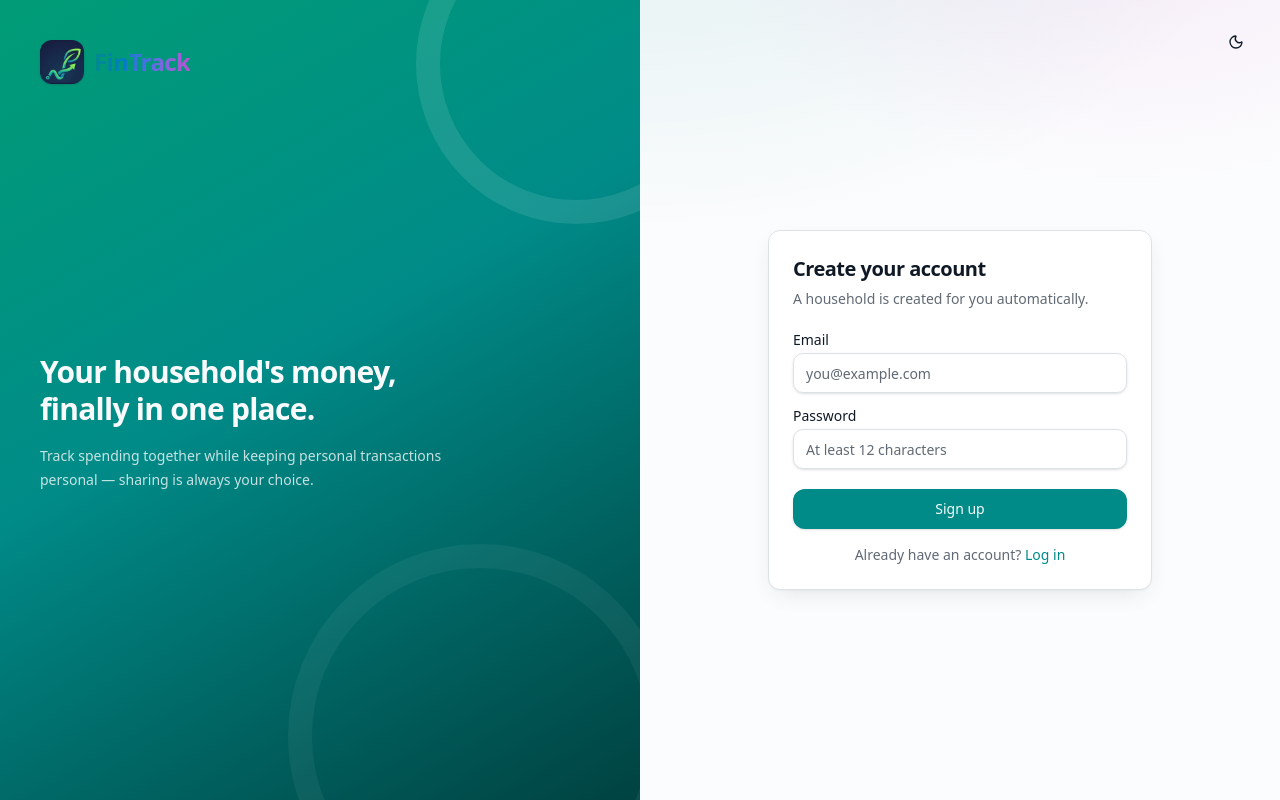
SignupPage › renders server-side field errors from the 400 problem body
The width and height of the screenshot is (1280, 800).
Type "jane@example.com" into the field labelled "Email".
click(960, 373); type("jane@example.com")  # box [793, 353, 1127, 393]
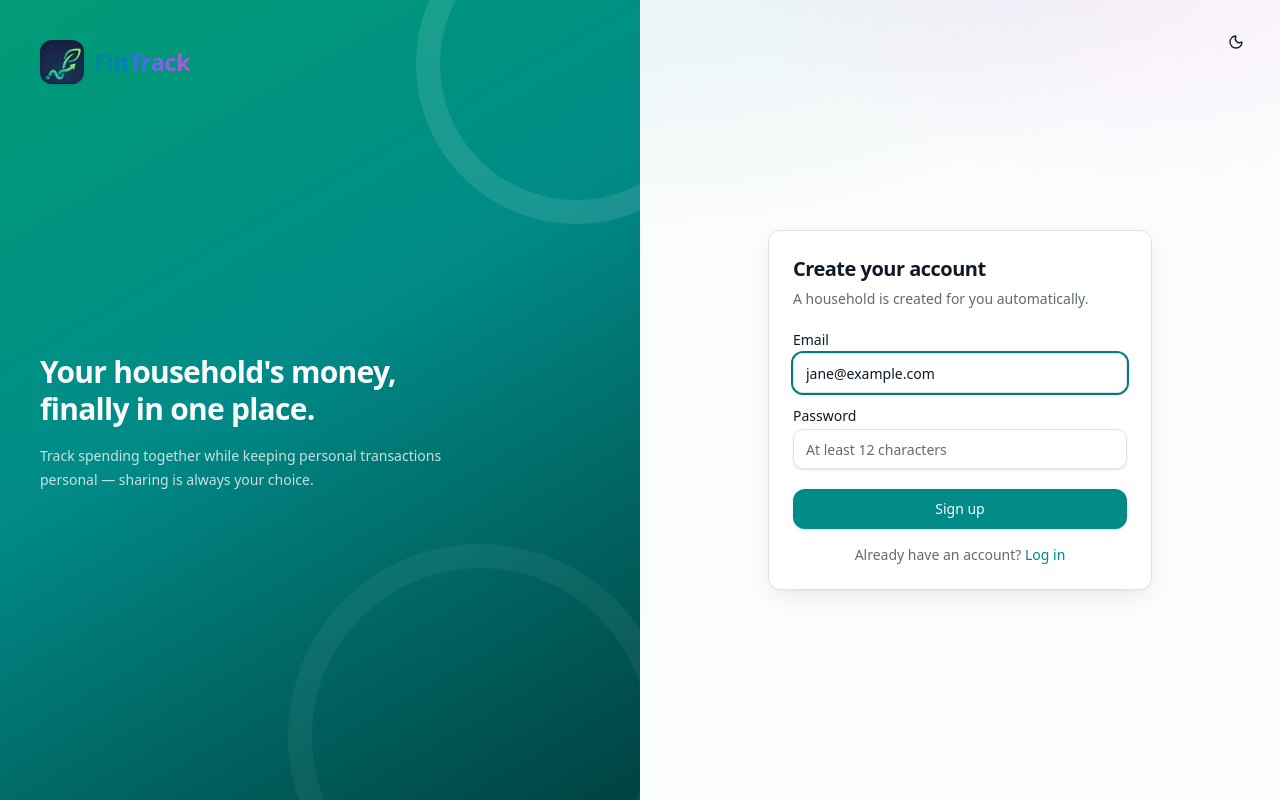
Type "correct horse battery staple" into the password field labelled "Password".
click(960, 449); type("correct horse battery staple")  # box [793, 429, 1127, 469]
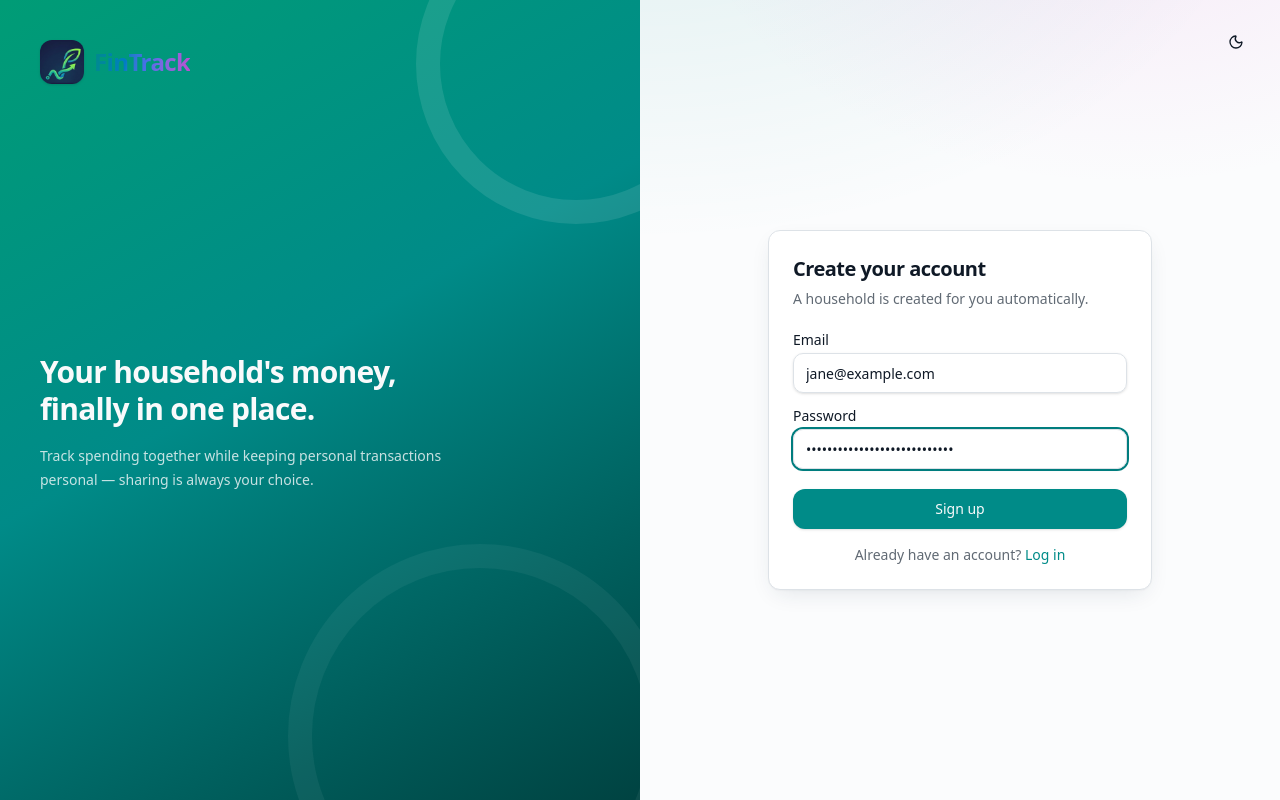
Click the button "Sign up".
click(960, 509)  # box [793, 489, 1127, 529]
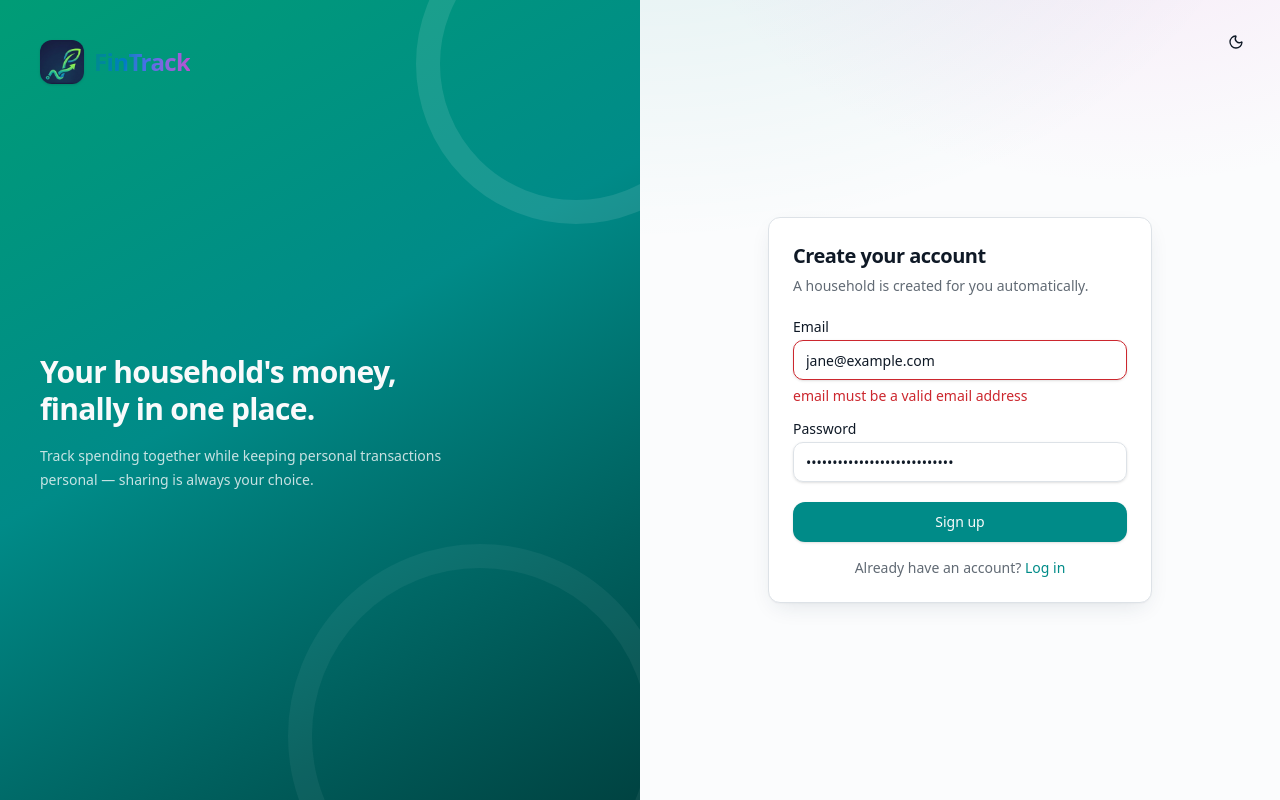
Now the text "email must be a valid email address" is shown, box [793, 386, 1028, 405]
